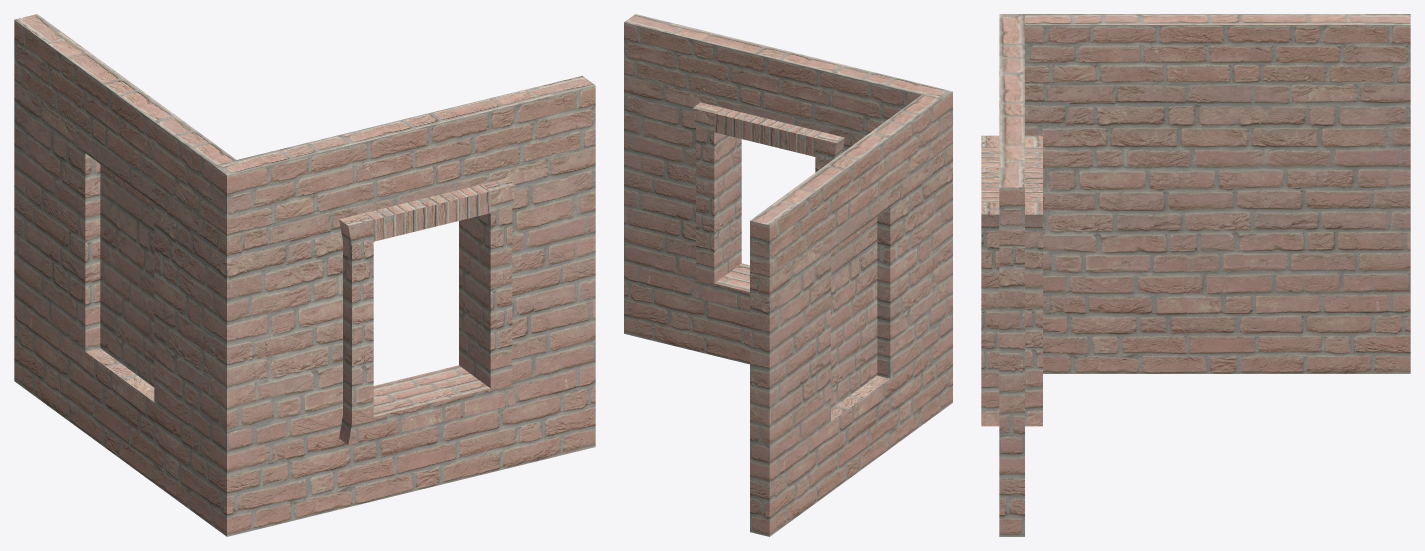
The model's file is WallDoubleWindowL.fbx.
3 views of the same model, side by side, from view 1: azimuth 30°, elevation 25°; view 2: azimuth 150°, elevation 25°; view 3: azimuth 270°, elevation 25° (orthographic). The views are drawn at different scales.
Visible parts, largest first — view 1: WallDoubleWindowL; view 2: WallDoubleWindowL; view 3: WallDoubleWindowL.
Part boxes in pixels (<box>): WallDoubleWindowL: <box>14,14,595,536</box>; WallDoubleWindowL: <box>624,14,952,536</box>; WallDoubleWindowL: <box>981,14,1410,536</box>.
Bounding box in the file's own units: 320 × 300 × 334.
1 material, 1 textured.
